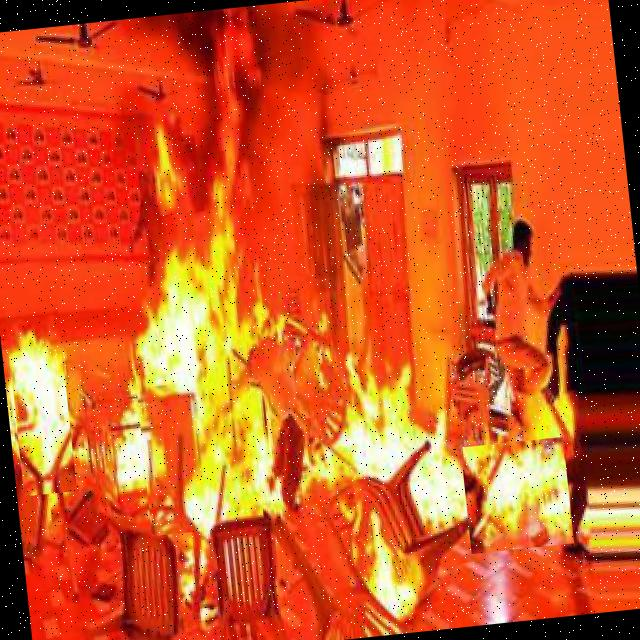fire: (112, 150, 264, 536), (314, 352, 436, 490), (4, 294, 76, 496), (460, 436, 574, 554), (131, 101, 204, 217)
